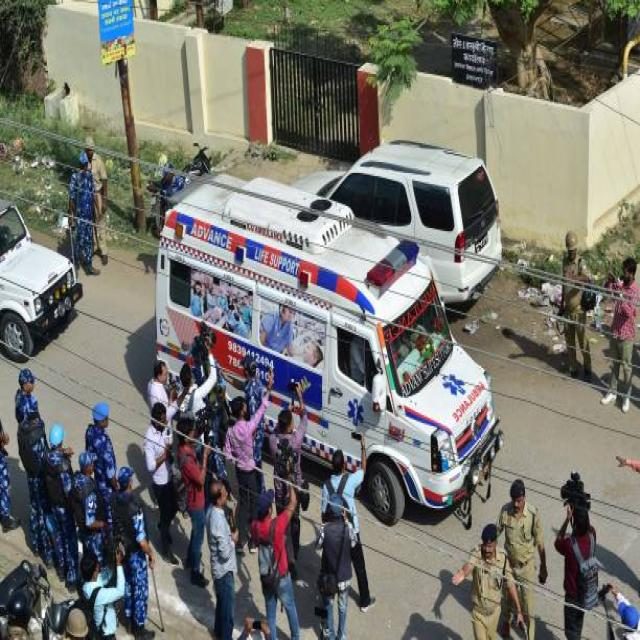ambulance: (154, 173, 506, 527)
